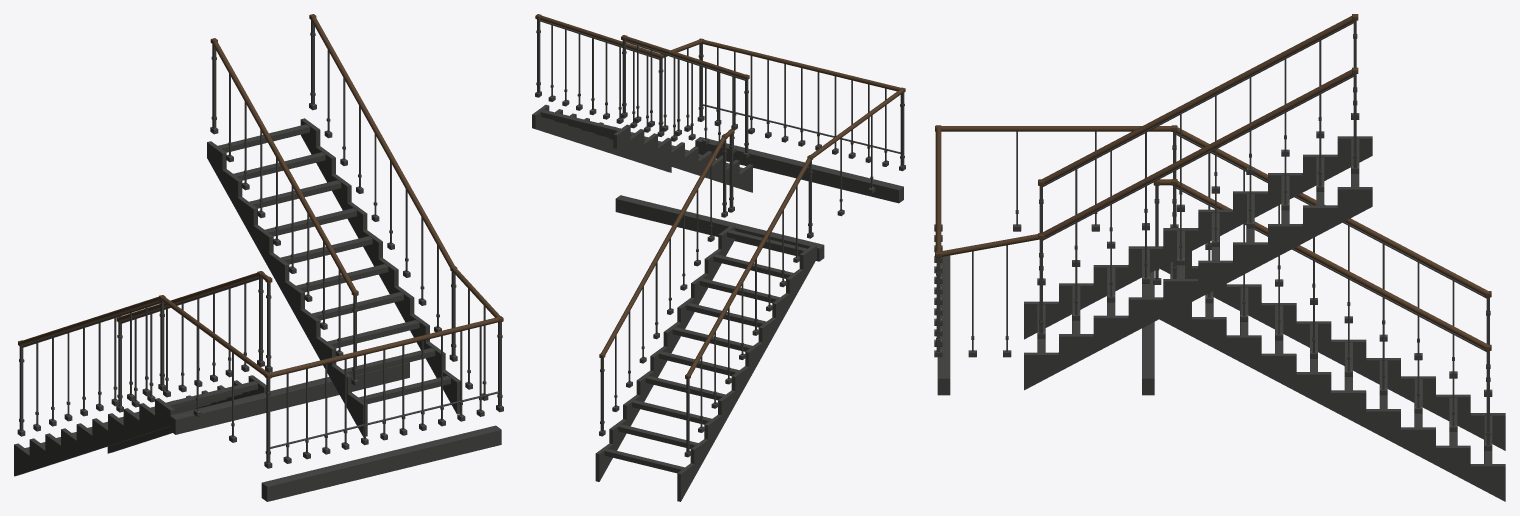
The model's file is stair_ironwork_service.glb.
The picture shows the model from 3 angles, left to right: view 1: azimuth 30°, elevation 25°; view 2: azimuth 150°, elevation 25°; view 3: azimuth 270°, elevation 25°; orthographic projection. The views are drawn at different scales.
Visible parts, largest first — view 1: StairStructure, Ironwork_cast_iron, Ironwork_wood_dark; view 2: StairStructure, Ironwork_cast_iron, Ironwork_wood_dark; view 3: StairStructure, Ironwork_cast_iron, Ironwork_wood_dark.
Part boxes in pixels (x1,y1,x2,y2): StairStructure: (14, 118, 501, 501); Ironwork_cast_iron: (17, 20, 503, 468); Ironwork_wood_dark: (18, 14, 503, 378); StairStructure: (532, 104, 903, 501); Ironwork_cast_iron: (535, 19, 905, 457); Ironwork_wood_dark: (535, 14, 905, 379); StairStructure: (937, 136, 1505, 501); Ironwork_cast_iron: (934, 20, 1492, 450); Ironwork_wood_dark: (935, 14, 1491, 350).
Size of the model in its own units: 2.4 by 4.4 by 4.51.
